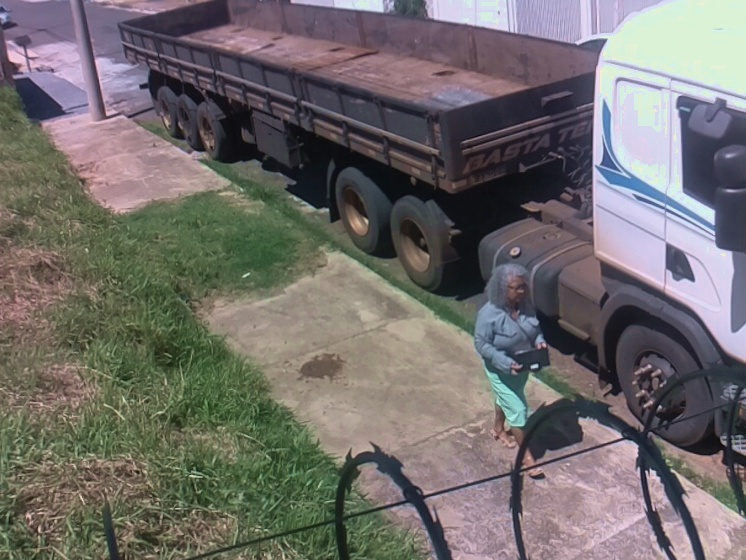person: (473, 262, 552, 479)
